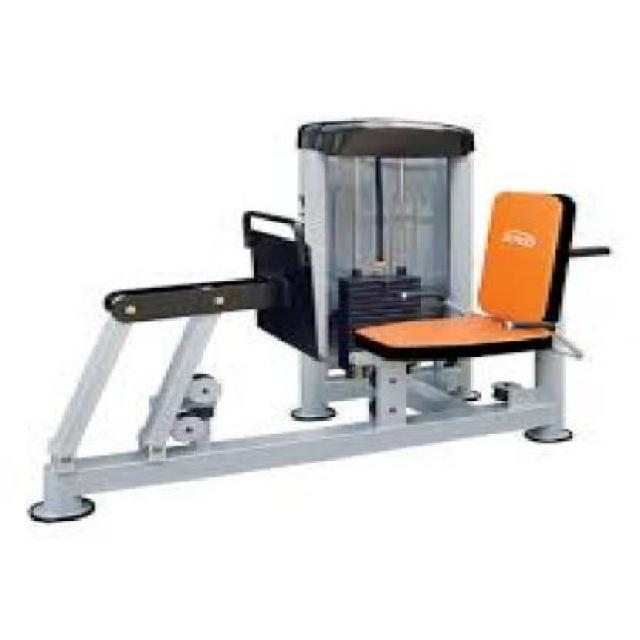leg press: (26, 95, 619, 543)
